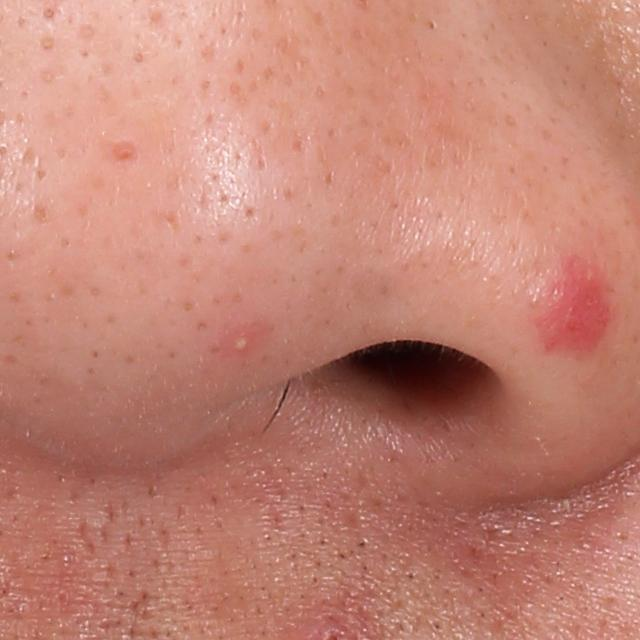papule: (548, 280, 610, 345)
pustule: (231, 336, 251, 354)
